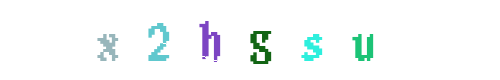2: (170, 0, 250, 80)
G: (210, 0, 290, 80)
H: (194, 0, 274, 80)
S: (220, 0, 300, 80)
U: (311, 0, 391, 80)
X: (119, 0, 199, 80)
